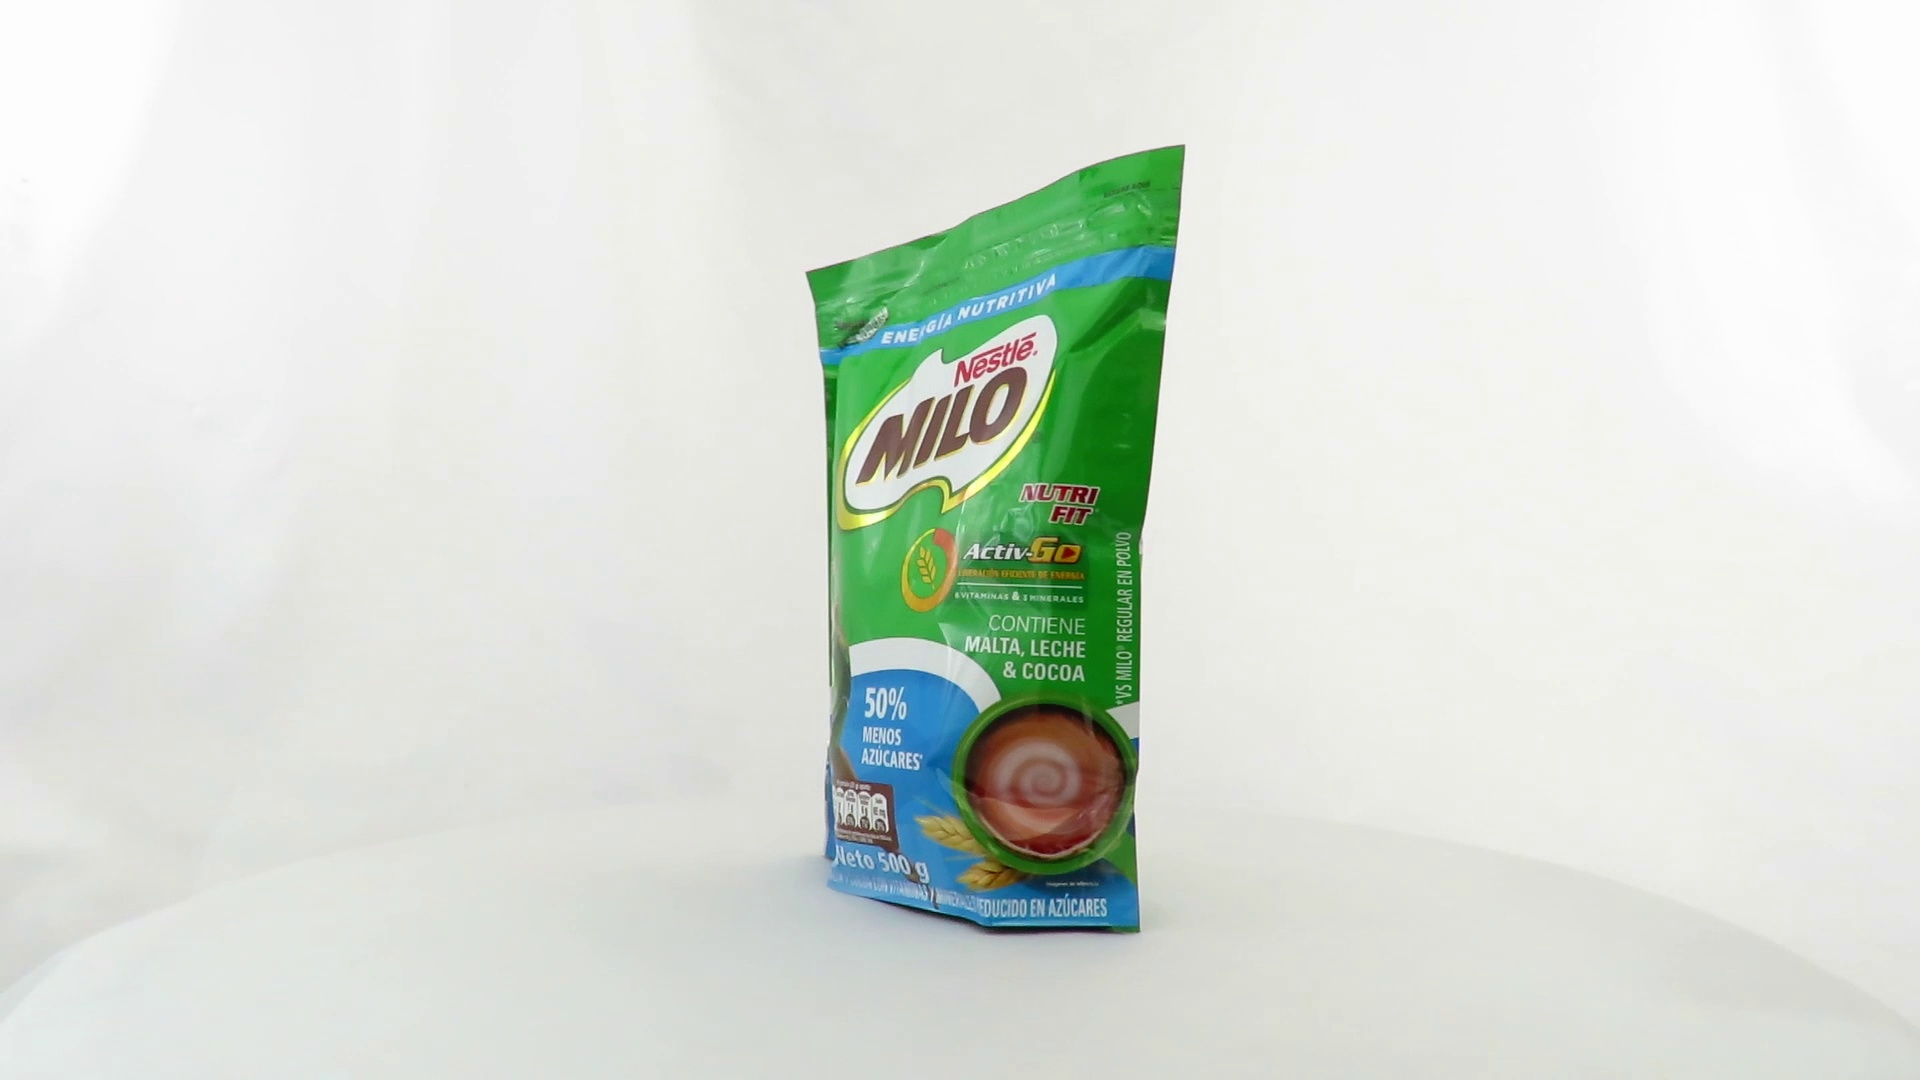COL0170205DYP50000: (794, 138, 1192, 942)
